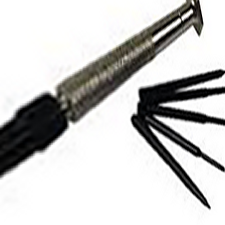Screwdriver: (2, 1, 225, 213)
